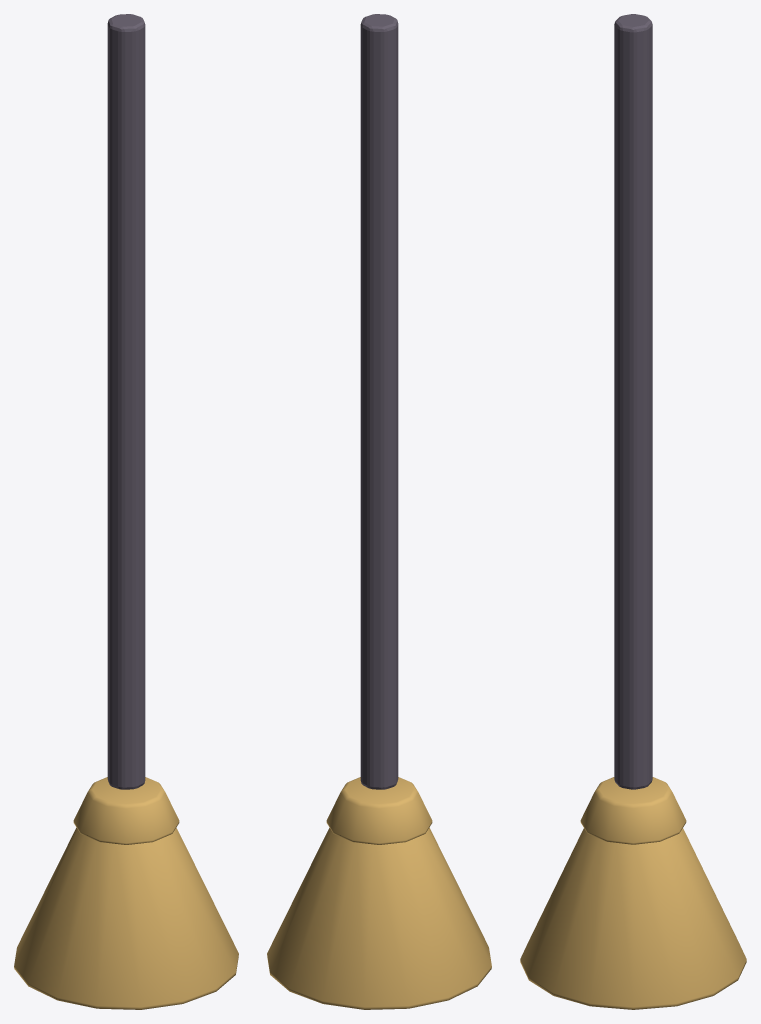
The model's file is hanging_chain_bell.glb.
The picture shows the model from 3 angles, left to right: view 1: azimuth 30°, elevation 25°; view 2: azimuth 150°, elevation 25°; view 3: azimuth 270°, elevation 25°; orthographic projection.
Visible parts, largest first — view 1: BellCollar, Link0; view 2: BellCollar, Link0; view 3: BellCollar, Link0.
Part boxes in pixels (left/top/right/bottom): BellCollar: left=14, top=777, right=238, bottom=1009; Link0: left=107, top=14, right=145, bottom=789; BellCollar: left=267, top=777, right=491, bottom=1009; Link0: left=360, top=14, right=398, bottom=789; BellCollar: left=520, top=777, right=746, bottom=1009; Link0: left=614, top=14, right=652, bottom=789.
Bounding box in the file's own units: 2.71 × 12.45 × 2.71.
